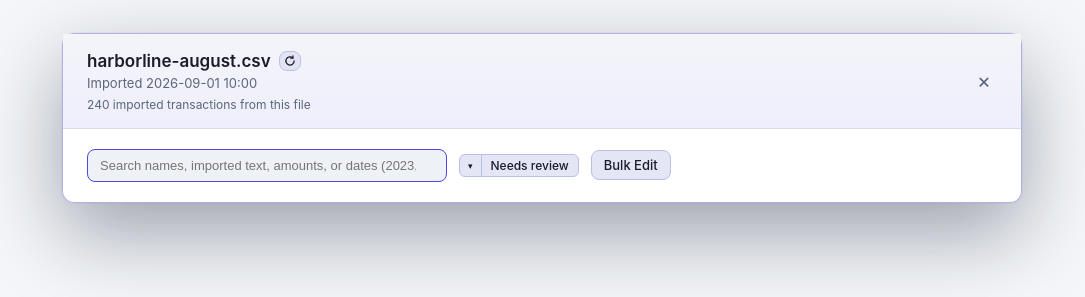
Scenario: ImportBatchDetail quick filter › opens on the whole file from the ↗, with Needs review one click away
The width and height of the screenshot is (1085, 297).
Expected: the text "240 imported transactions from this file" is shown, [87,97,311,112]
Click the button "Needs review" at (530,165), box [480,154,579,177]
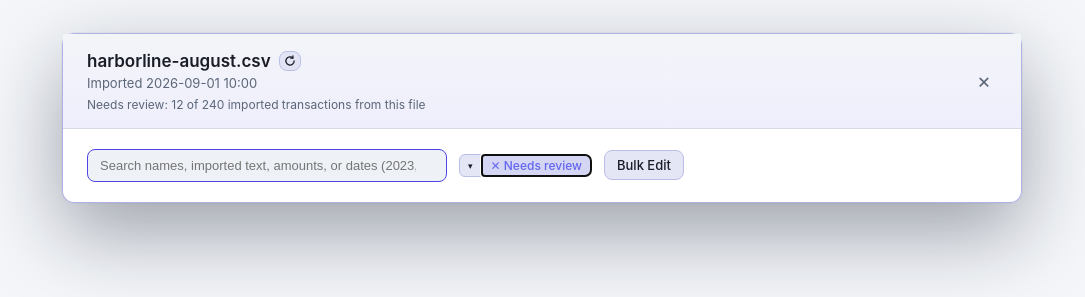
Expected: the text "Needs review: 12 of 240 imported transactions from this file" is shown, [87,97,426,112]
